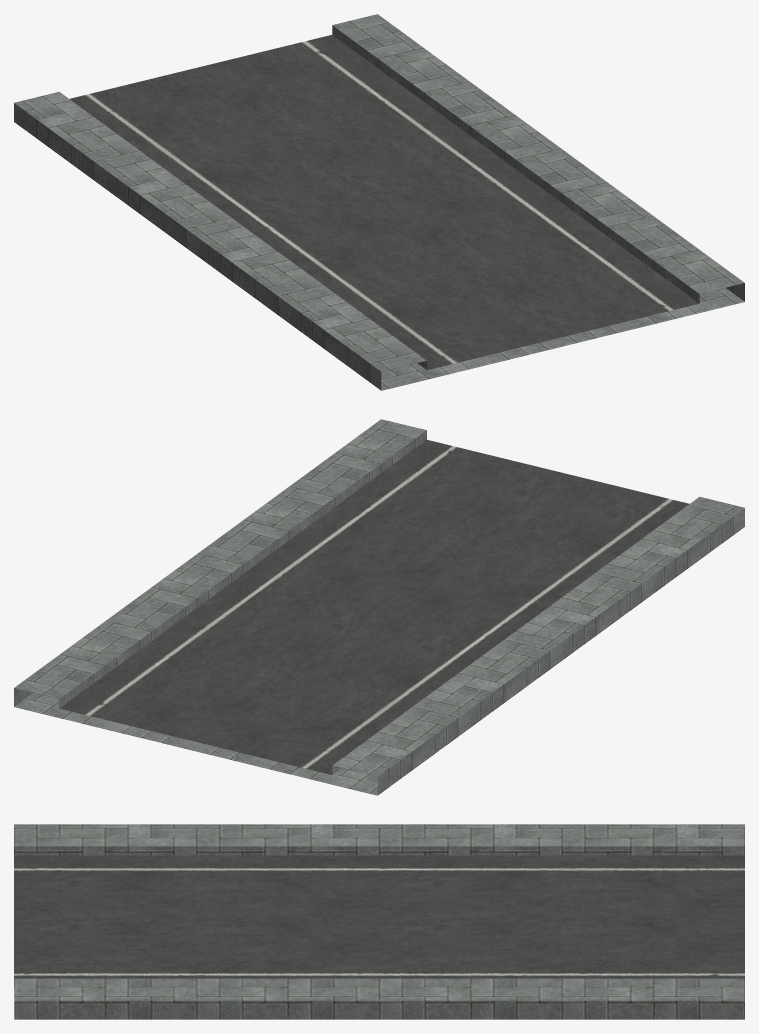
Rendered from Straight Oneway Small Sides.fbx.
3 views of the same model, one above another, from view 1: azimuth 30°, elevation 25°; view 2: azimuth 150°, elevation 25°; view 3: azimuth 270°, elevation 25° (orthographic).
Visible parts, largest first — view 1: Plane; view 2: Plane; view 3: Plane.
Boxes of the visible parts, left/top/right/bottom form: Plane: left=14, top=14, right=744, bottom=390; Plane: left=14, top=419, right=744, bottom=795; Plane: left=14, top=824, right=744, bottom=1019.
Bounding box in the file's own units: 800 × 40 × 1400.
